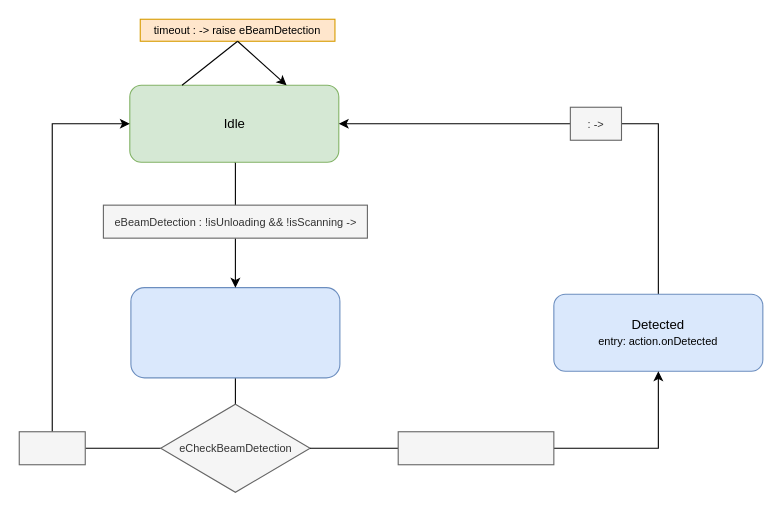
The diagram is 782 pixels wide and 512 high, and some of its shapes have lost their labels. Here are the shapes that lost their labels. From the top down, the centre of each, then its label:
At [235,332]: "Detecting entry: invoke beamDetection, (done eCheckBeamDetection)".
At [51,448]: "else ->".
At [475,448]: "$isBeamInterrupted ->".
